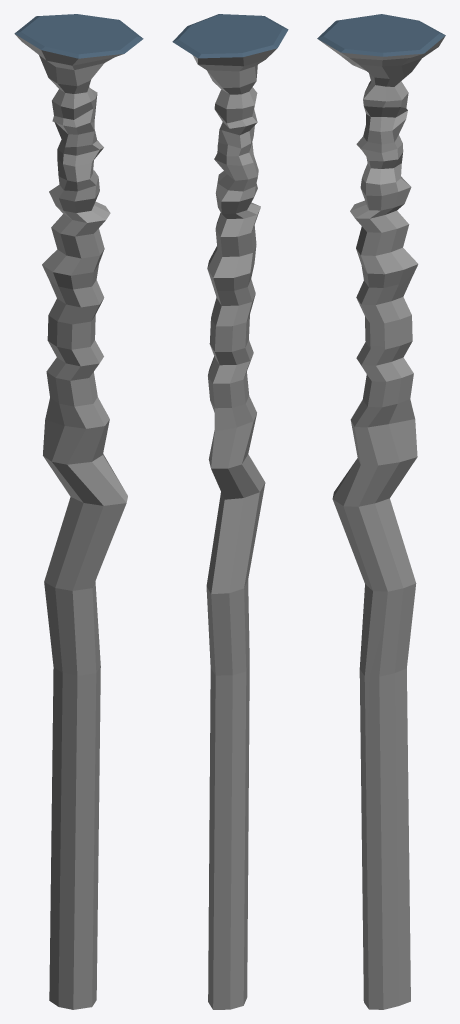
The model's file is Low Poly Vignette Island 3.fbx.
3 renders of one model, left to right at view 1: azimuth 90°, elevation 25°; view 2: azimuth 150°, elevation 25°; view 3: azimuth 270°, elevation 25°, orthographic.
Parts seen in each view (by area): view 1: Plane.003; view 2: Plane.003; view 3: Plane.003.
Boxes of the visible parts, x1,y1,x2,y2 form: Plane.003: (14, 14, 143, 1009); Plane.003: (172, 14, 288, 1009); Plane.003: (317, 14, 445, 1009).
Bounding box in the file's own units: 5626 × 58021 × 7011.
